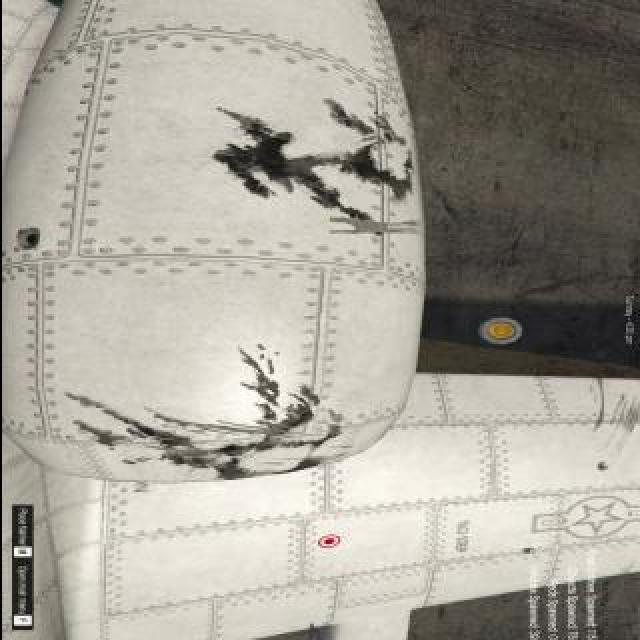crack: (13, 228, 41, 252), (519, 548, 533, 556), (598, 463, 610, 471)
dent: (211, 113, 416, 219), (162, 401, 342, 482), (86, 399, 194, 452), (243, 354, 282, 407), (324, 101, 376, 136), (327, 220, 419, 236), (74, 424, 130, 450), (385, 119, 407, 149), (404, 153, 412, 175)
